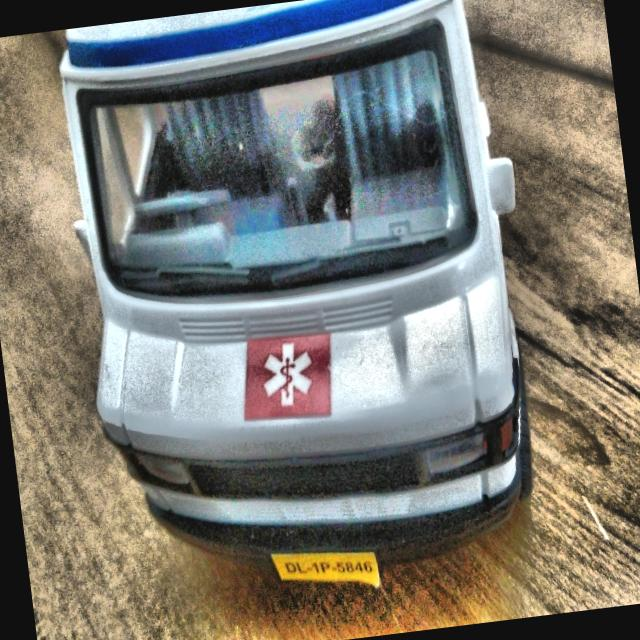Ambulance: (49, 0, 561, 624)
